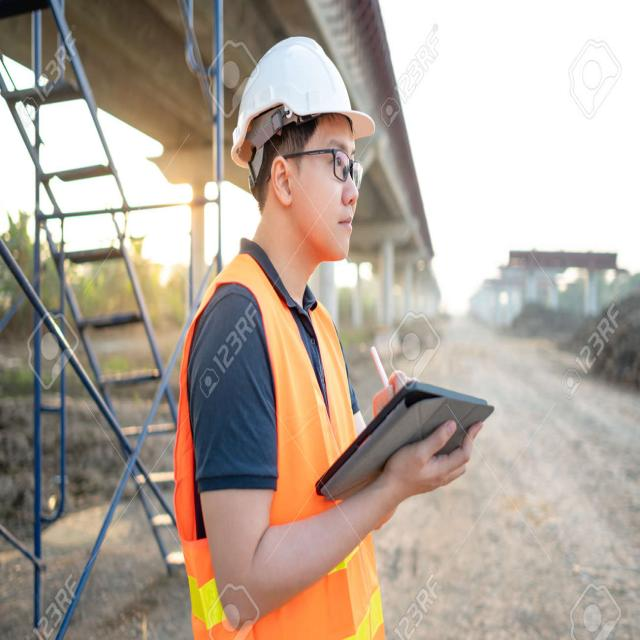helmet: (230, 29, 378, 210)
no-goggles: (279, 141, 366, 188)
vest: (172, 249, 392, 640)
